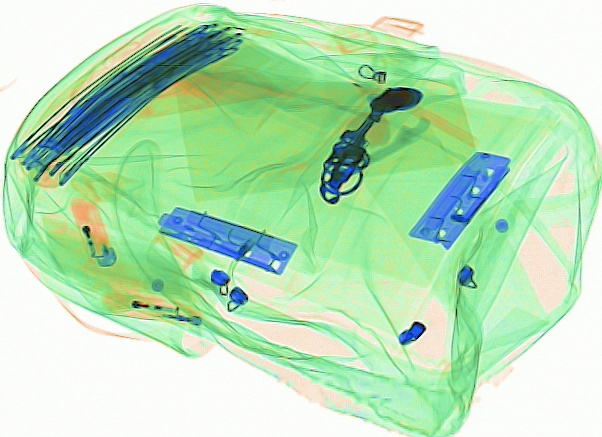lighter: (96, 285, 204, 325), (65, 192, 119, 270)
